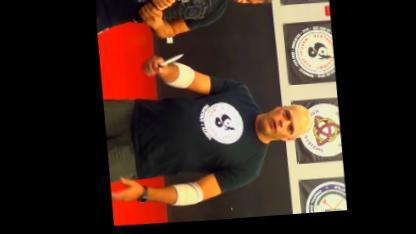knife: (138, 51, 186, 81)
